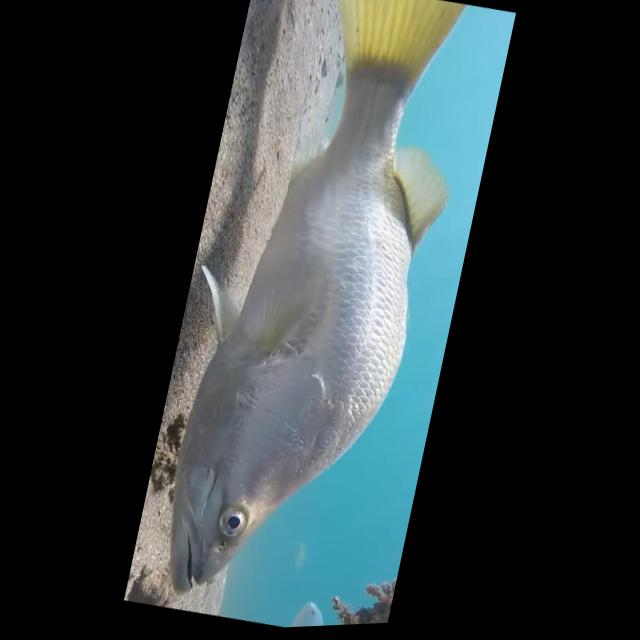Seabass: (135, 0, 491, 633)
